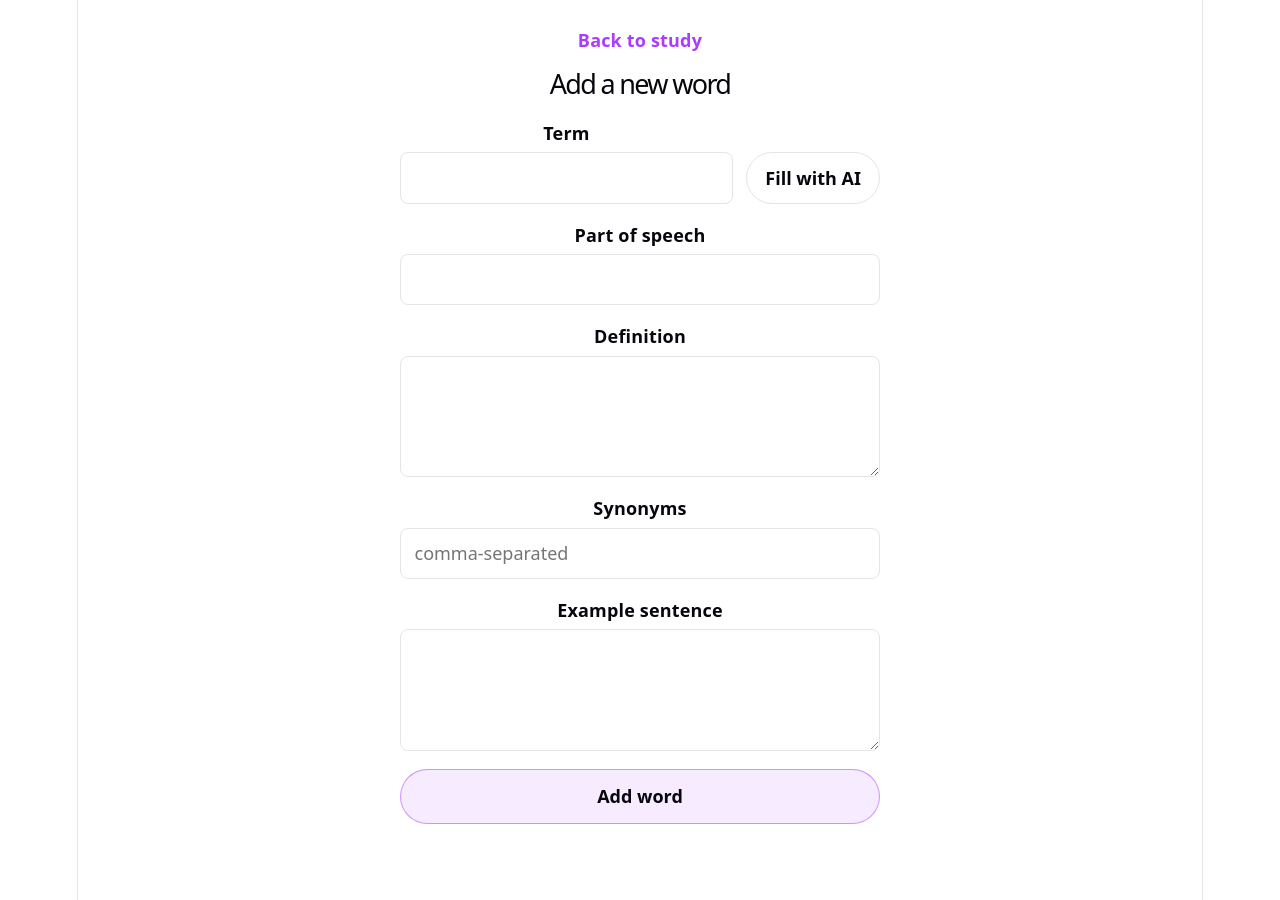
Test: AddWordsPage › shows inline errors when the API rejects the request
Type "ephemeral" into the field labelled "Term" at (566, 178), box [400,152,733,204]
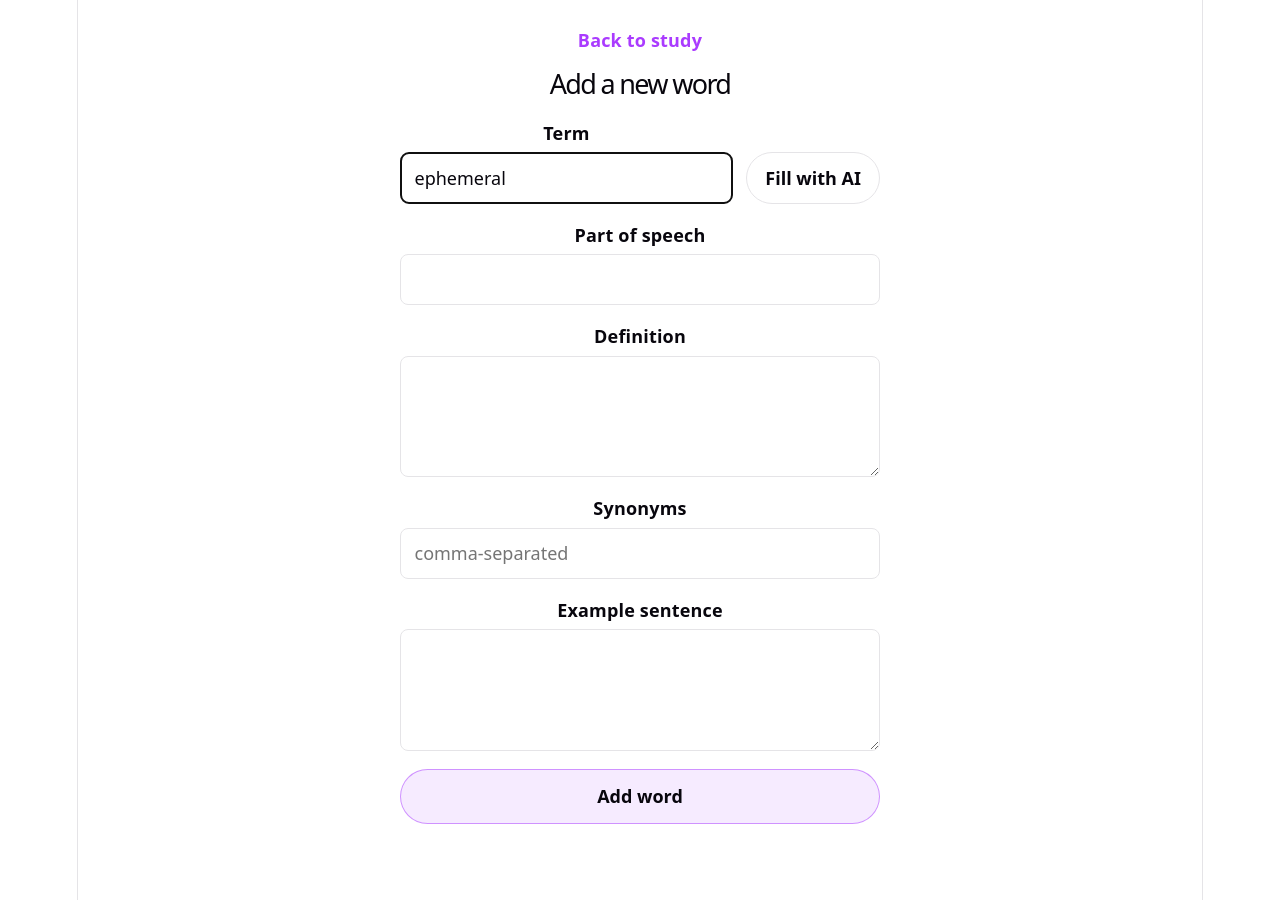
Type "adjective" into the field labelled "Part of speech" at (640, 280), box [400,254,880,305]
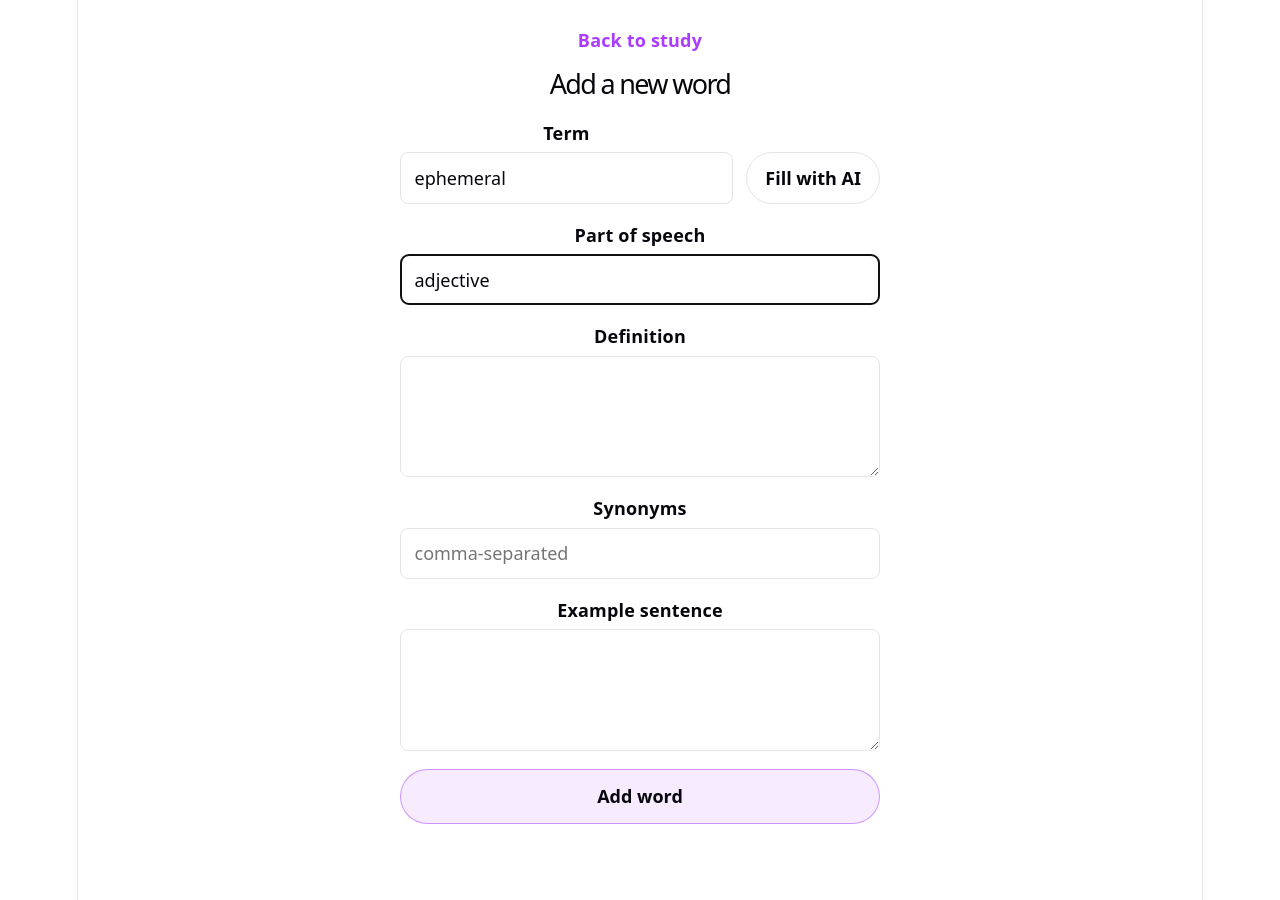
Type "test definition" into the text box labelled "Definition" at (640, 416), box [400,356,880,477]
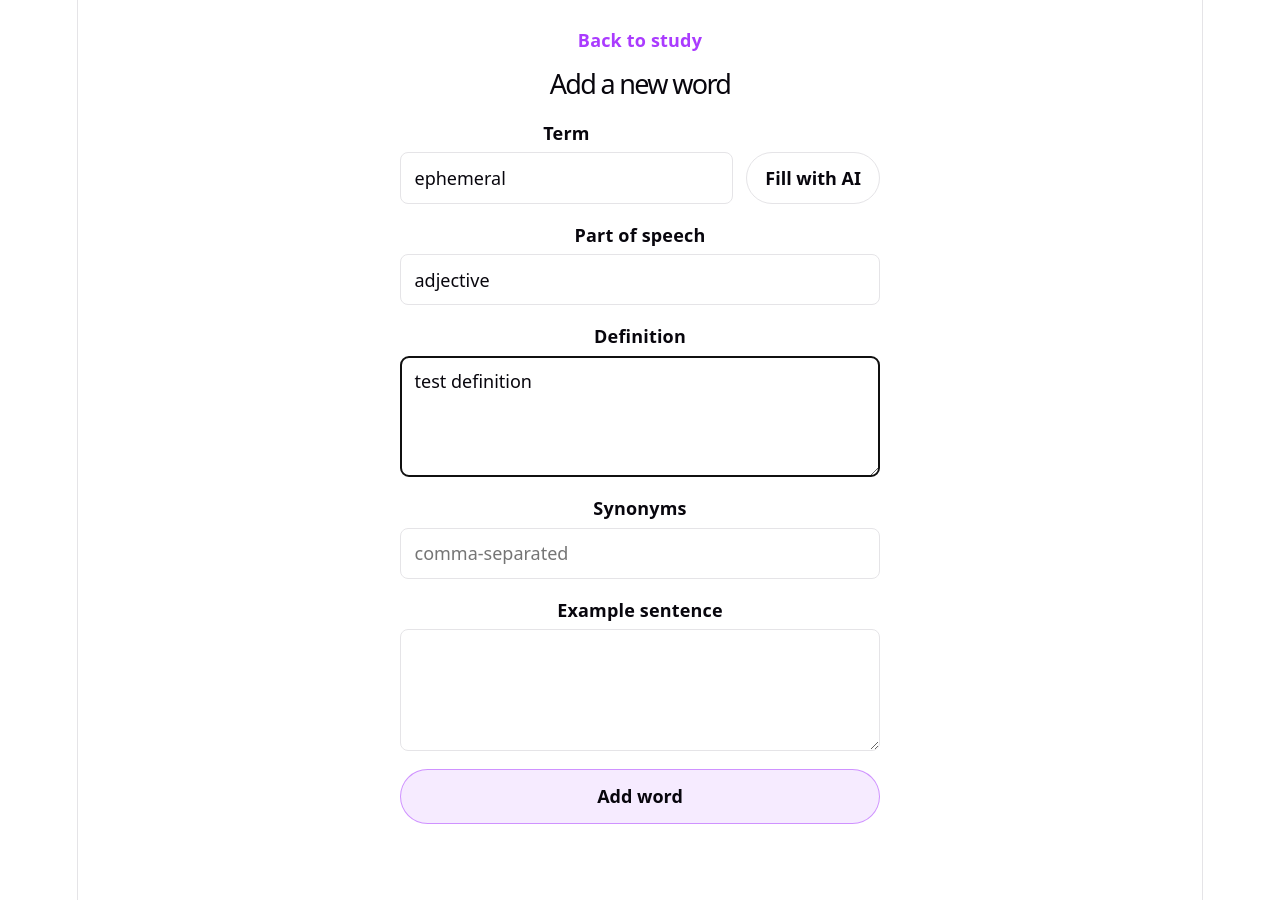
Type "Example sentence." into the text box labelled "Example sentence" at (640, 690), box [400,629,880,751]
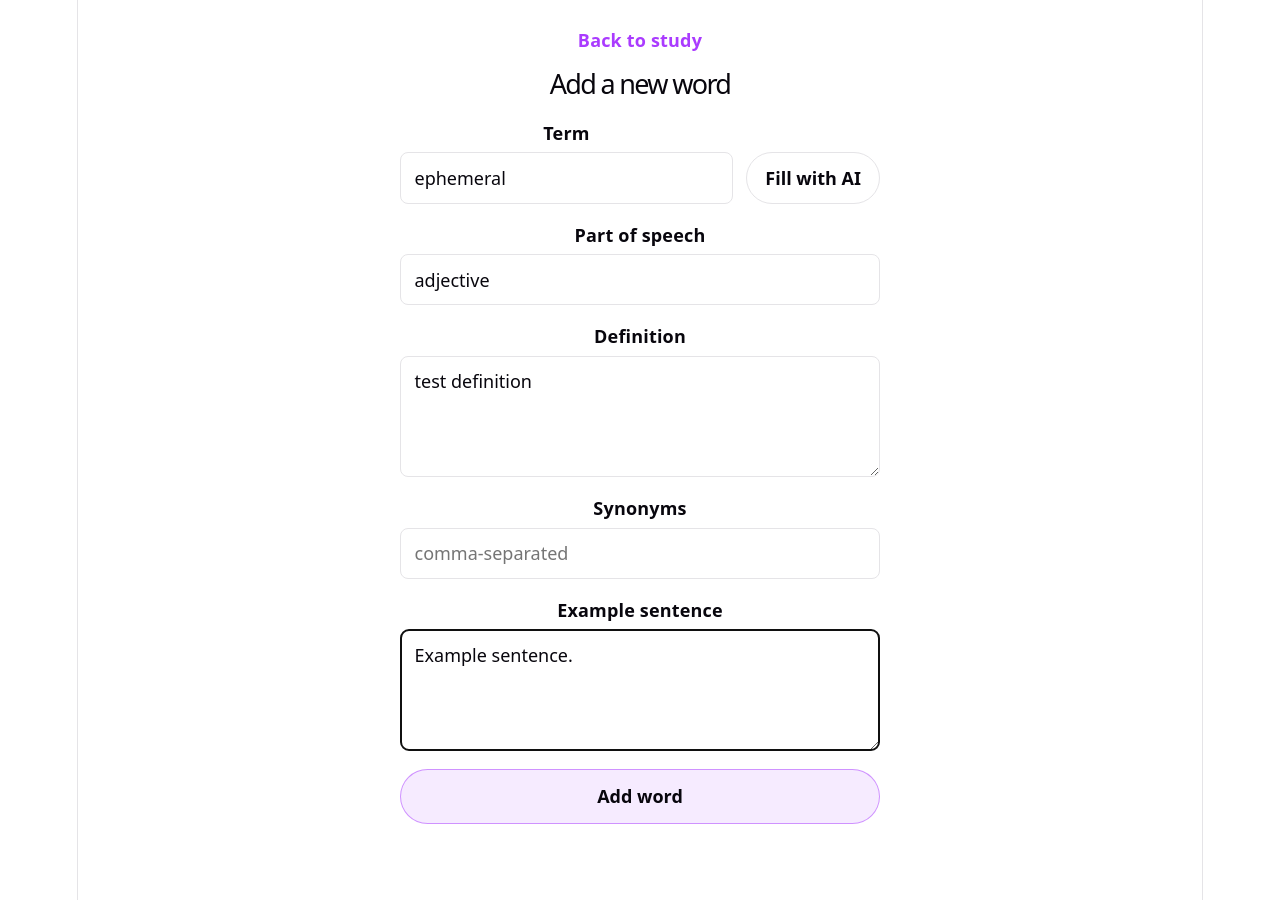
Click the button "Add word" at (640, 796), box [400,769,880,824]
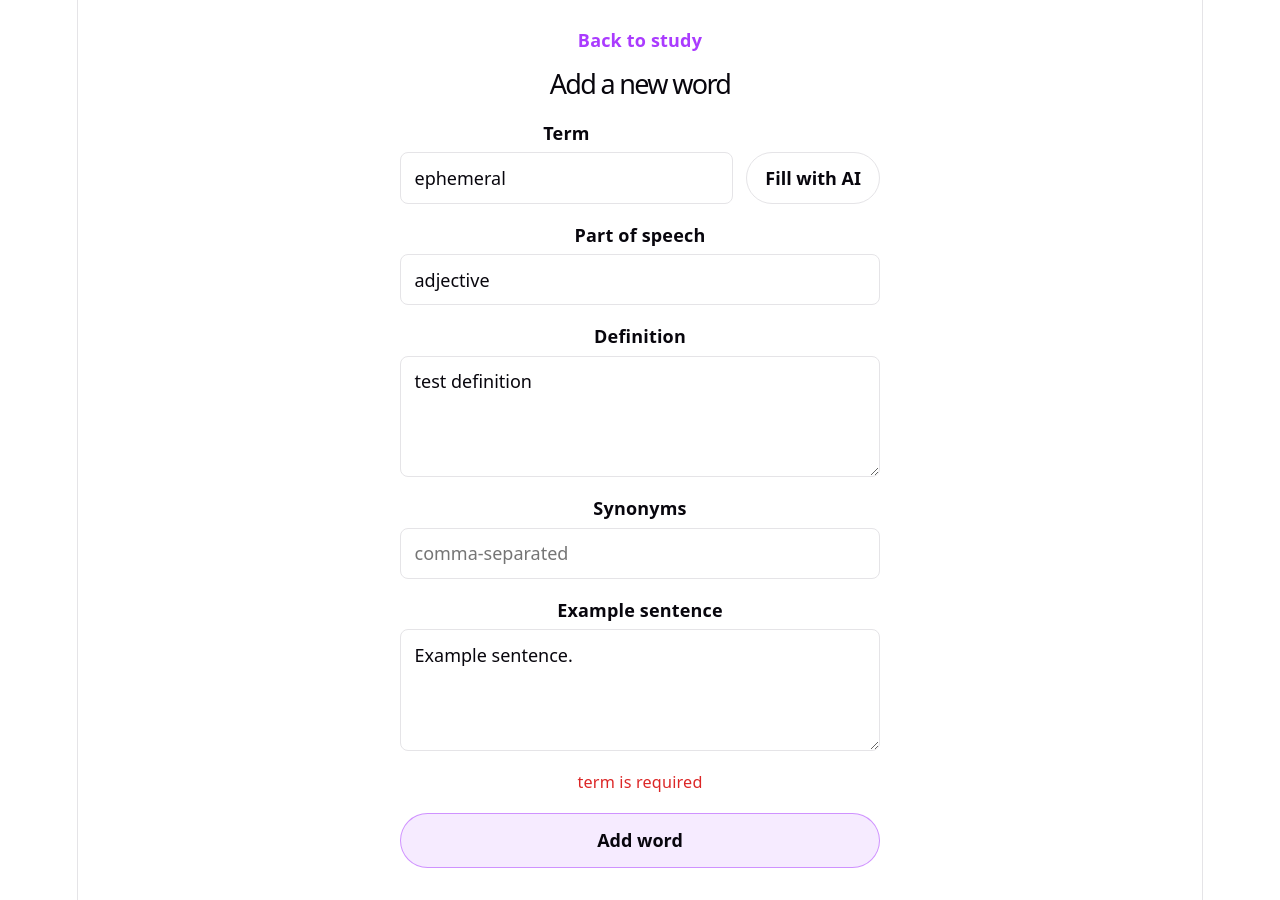
Expected: the text "term is required" is shown, [577,771,702,793]
